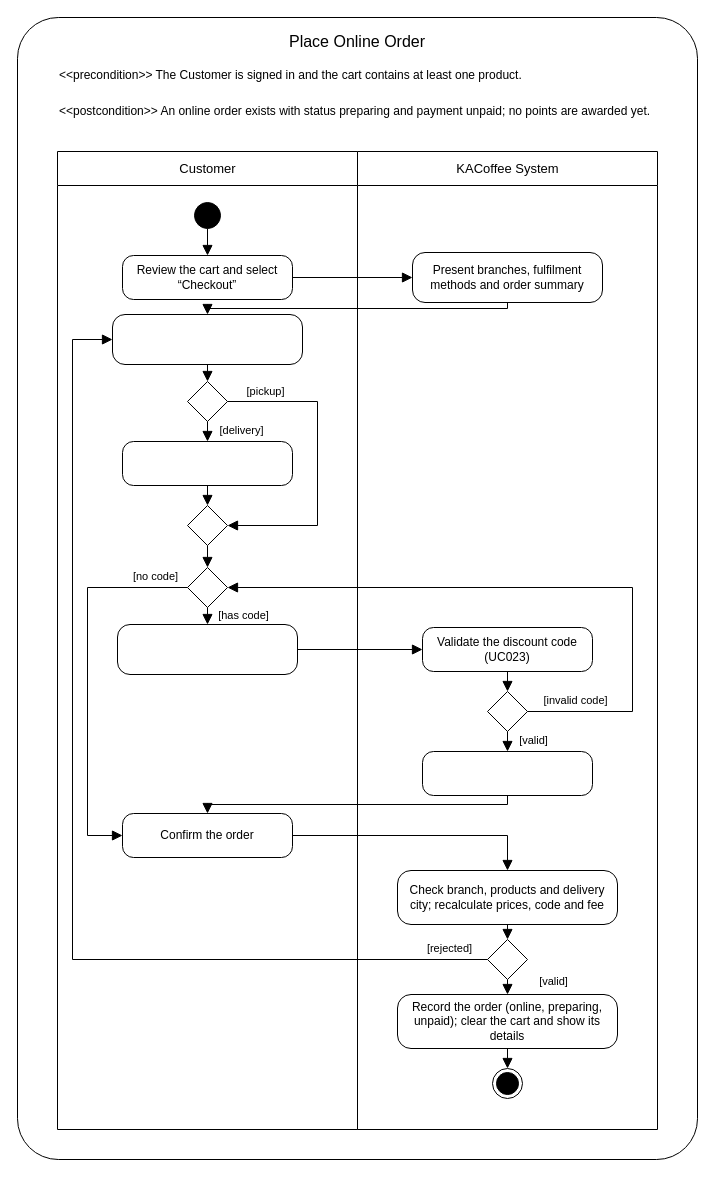
Some shapes in this 715 by 1177 pixel diagram are drawn without their labels. The centre of each missing label's shape, as x and y in pixels:
Enter a discount code and request a preview: point 207,649
Enter the delivery address: point 207,463
Select branch and fulfilment method; enter recipient: point 207,339
Show the discount in the order summary: point 507,773
